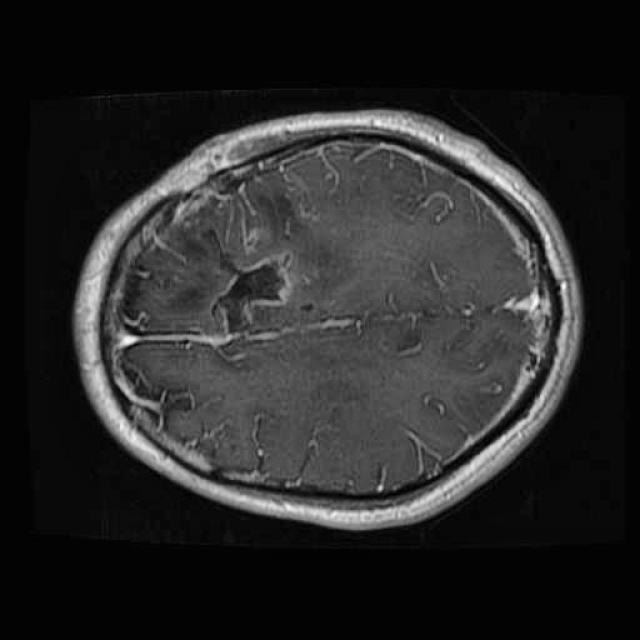Tumor: (189, 209, 310, 357)
